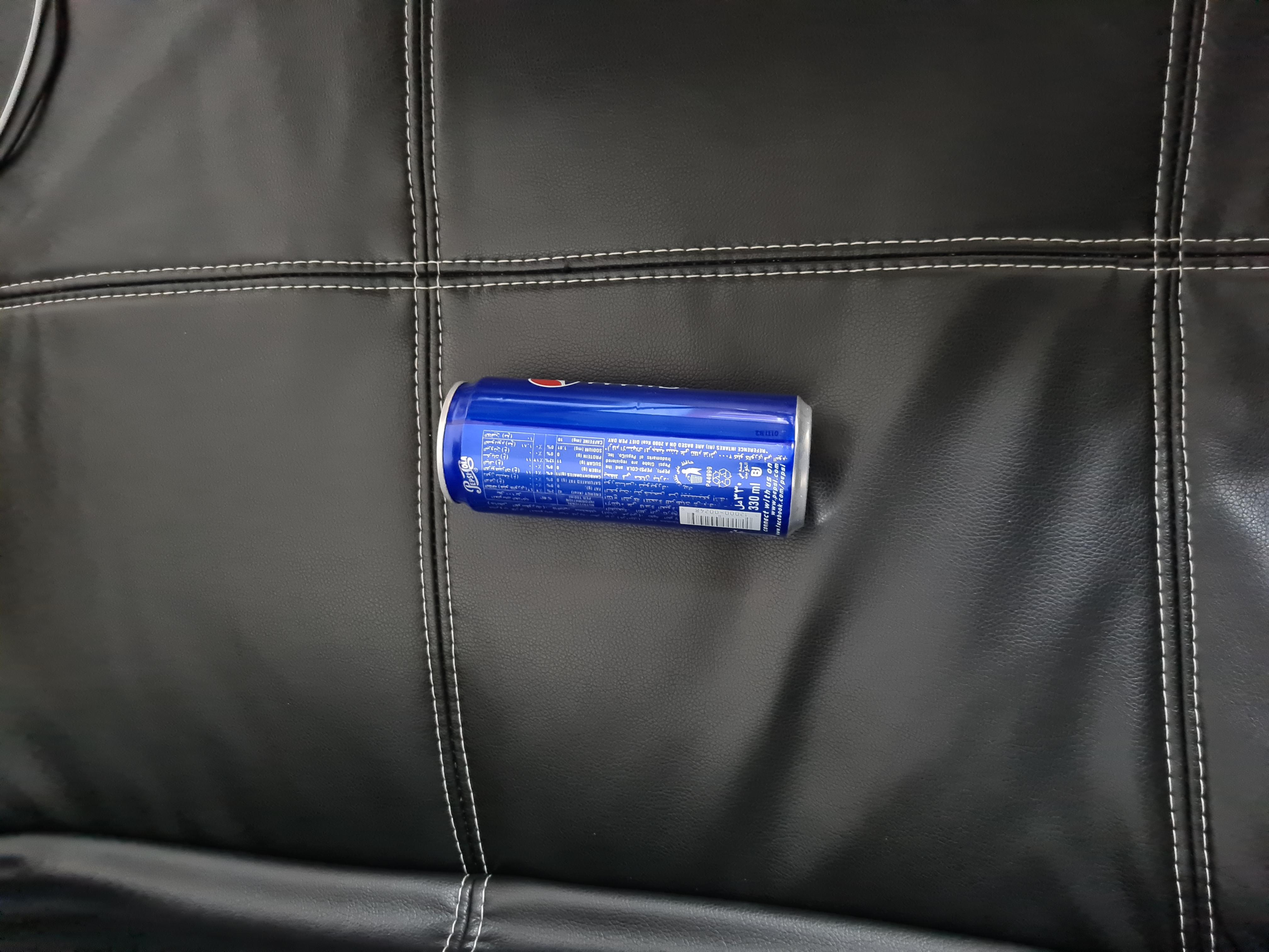debris: (418, 369, 819, 548)
